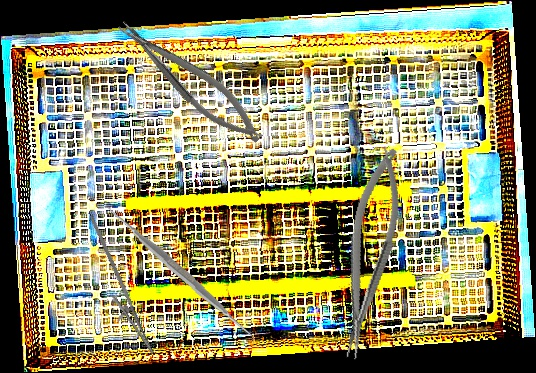Needle Holder: (111, 6, 271, 155), (322, 142, 416, 363), (64, 214, 170, 361)
Spatula Surgical: (103, 198, 259, 349)
